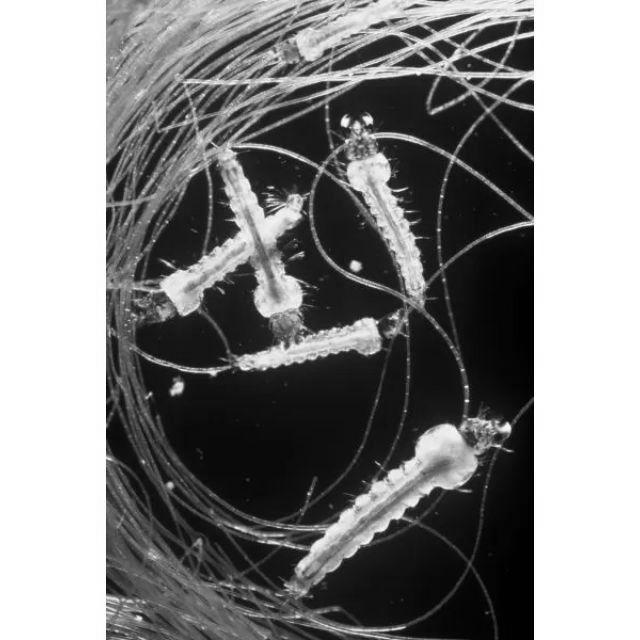larvas: (288, 422, 507, 595), (135, 192, 303, 323), (215, 155, 303, 342), (343, 122, 430, 303), (233, 310, 402, 373)
